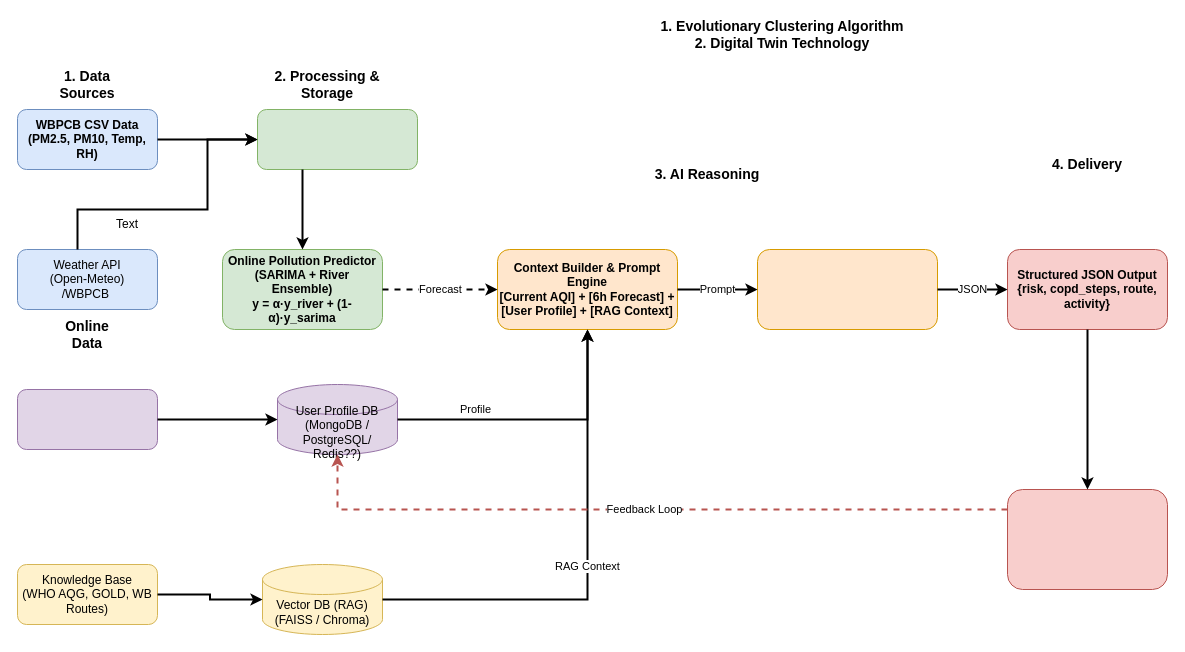
The diagram is 1185 pixels wide and 652 high, and some of its shapes have lost their labels. Each missing label, with the centre of its shape:
"Delivery Layer • Real-time Dashboard • Push Notifications • Conversational Chat" goes at pixel 1087 539.
"ETL Pipeline (Cleaning, Imputation, Resampling)" goes at pixel 337 139.
"LLM Reasoning Engine (Gemini 2.5 Flash / GPT-4o) One-shot JSON Prompting" goes at pixel 847 289.
"User Profile Input (COPD, Routes, Age)" goes at pixel 87 419.
